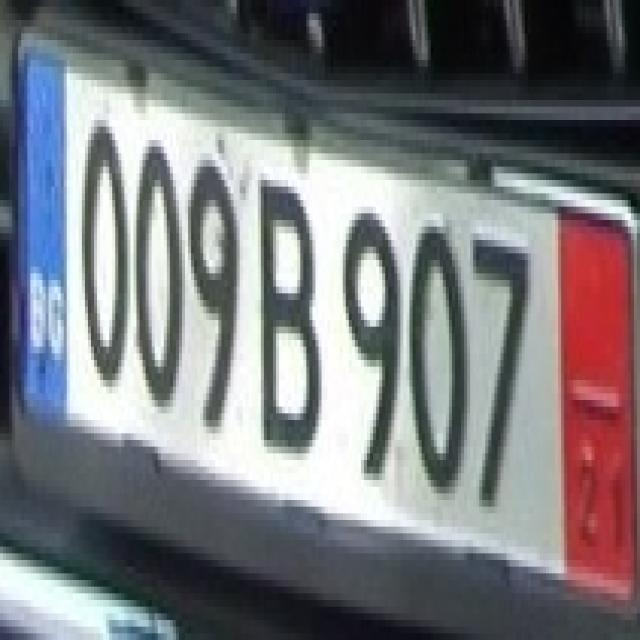0: (400, 214, 467, 494), (70, 94, 128, 394), (124, 120, 179, 400)
7: (461, 220, 531, 500)
9: (328, 194, 403, 474), (173, 146, 246, 426)
B: (246, 160, 322, 453)
